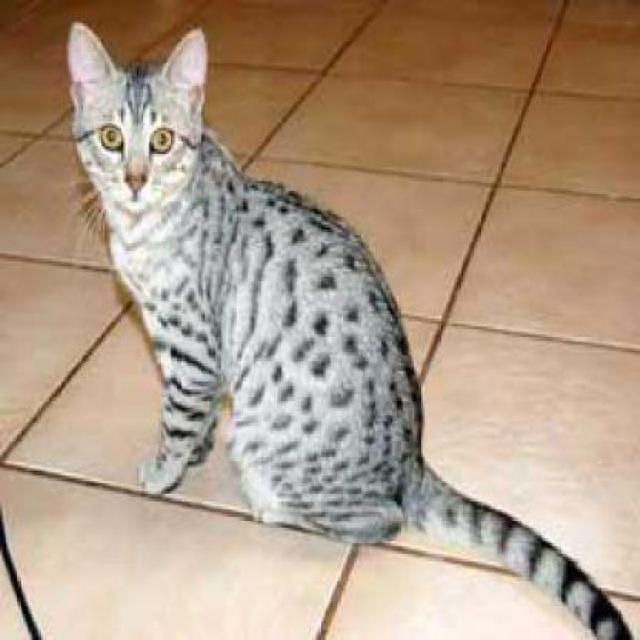cat: (66, 18, 634, 638)
